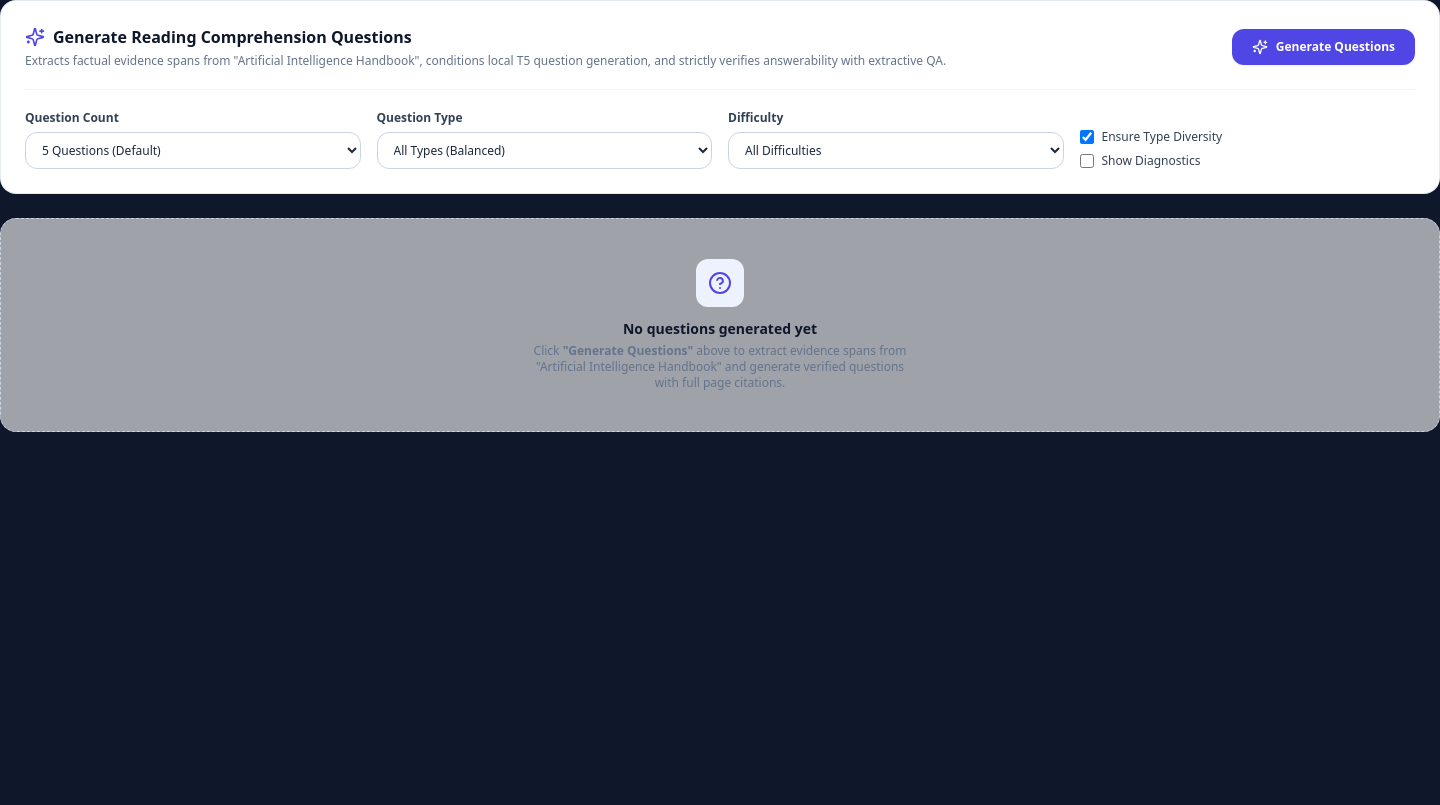
Scenario: QuestionGenerator Frontend Component Tests › 3. Inspects and toggles source evidence passage
Click the button "Generate Questions".
click(1323, 47)  # box x1=1232 y1=29 x2=1415 y2=65
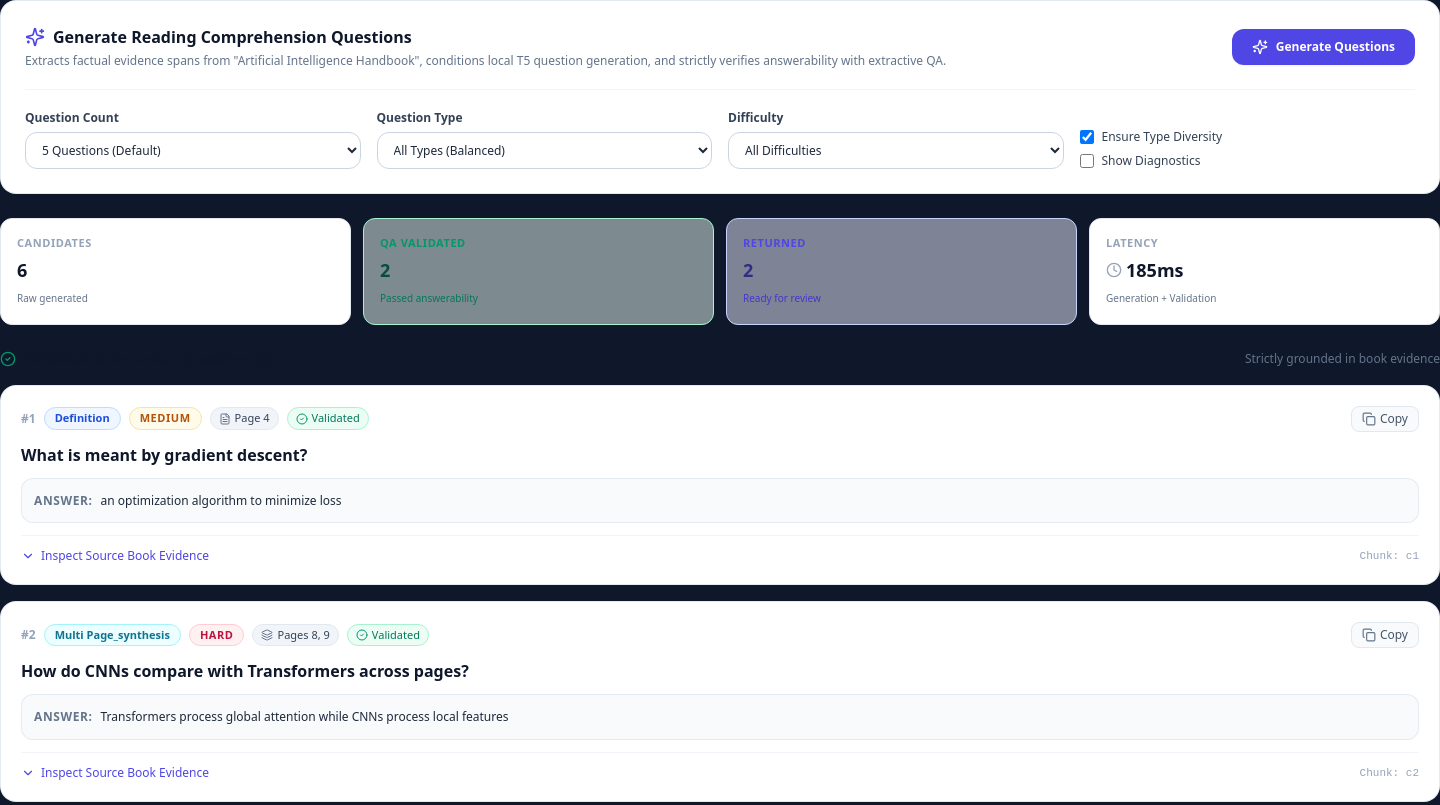
Now the heading "What is meant by gradient descent?" is shown, box x1=21 y1=444 x2=307 y2=466
Click the button "Inspect Source Book Evidence" in the row of "c1".
click(115, 556)  # box x1=21 y1=548 x2=209 y2=564
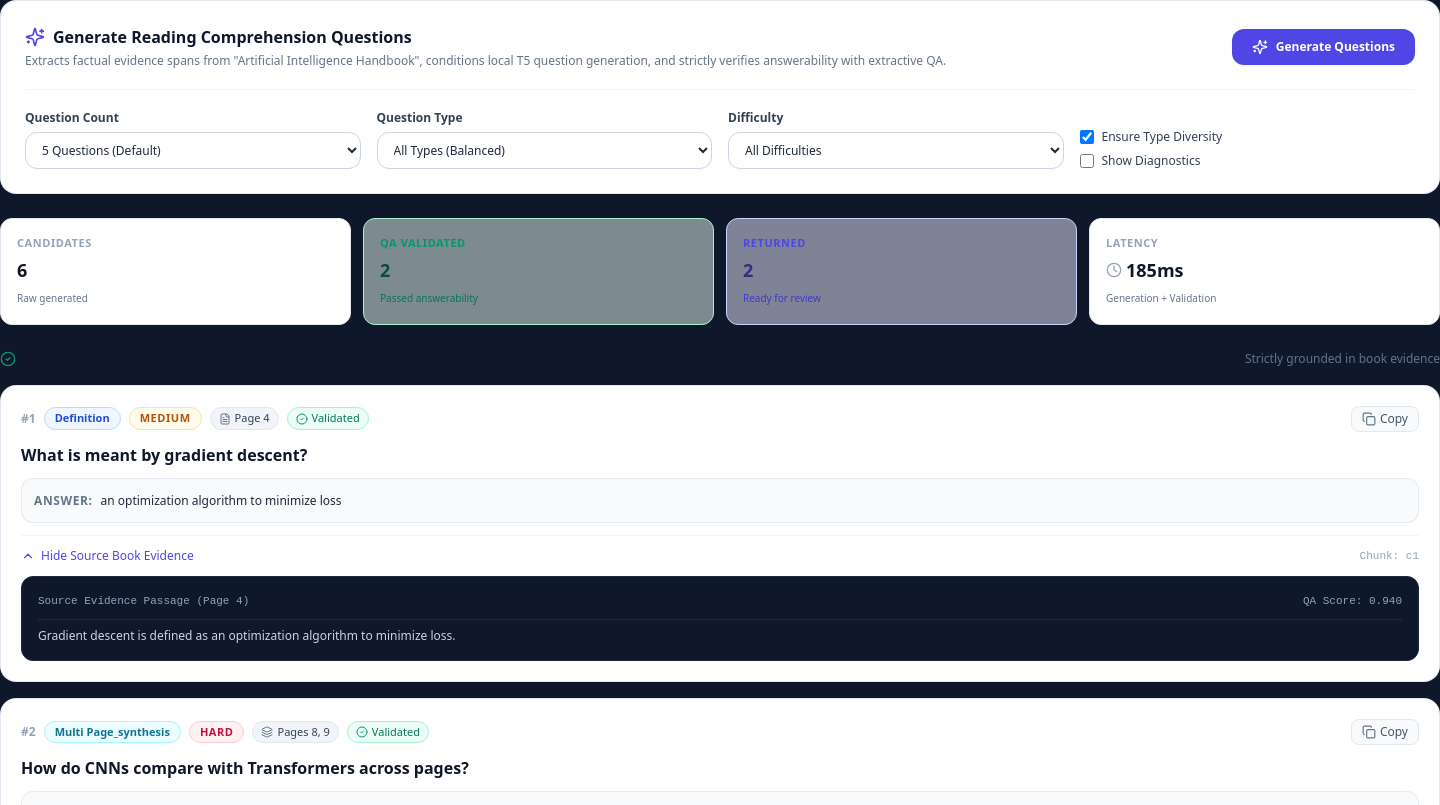
Now the text "Gradient descent is defined as an optimization algorithm to minimize loss." is shown, box x1=38 y1=627 x2=456 y2=644
